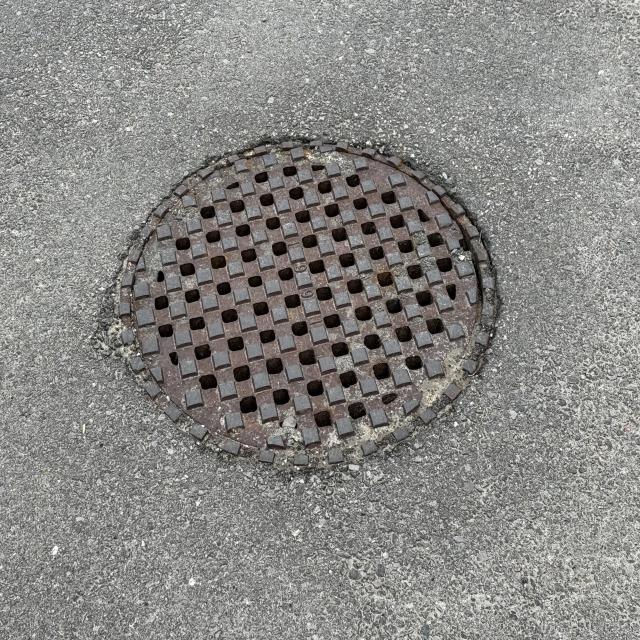Manhole: (116, 134, 504, 476)
